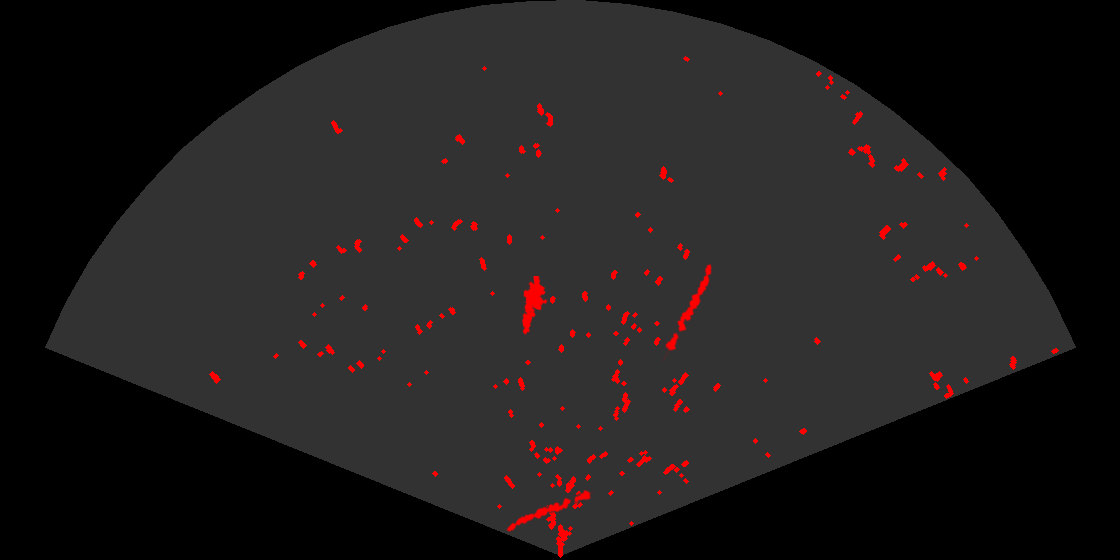chain: (661, 262, 713, 361), (505, 488, 594, 533)
frogman: (521, 276, 549, 335)
